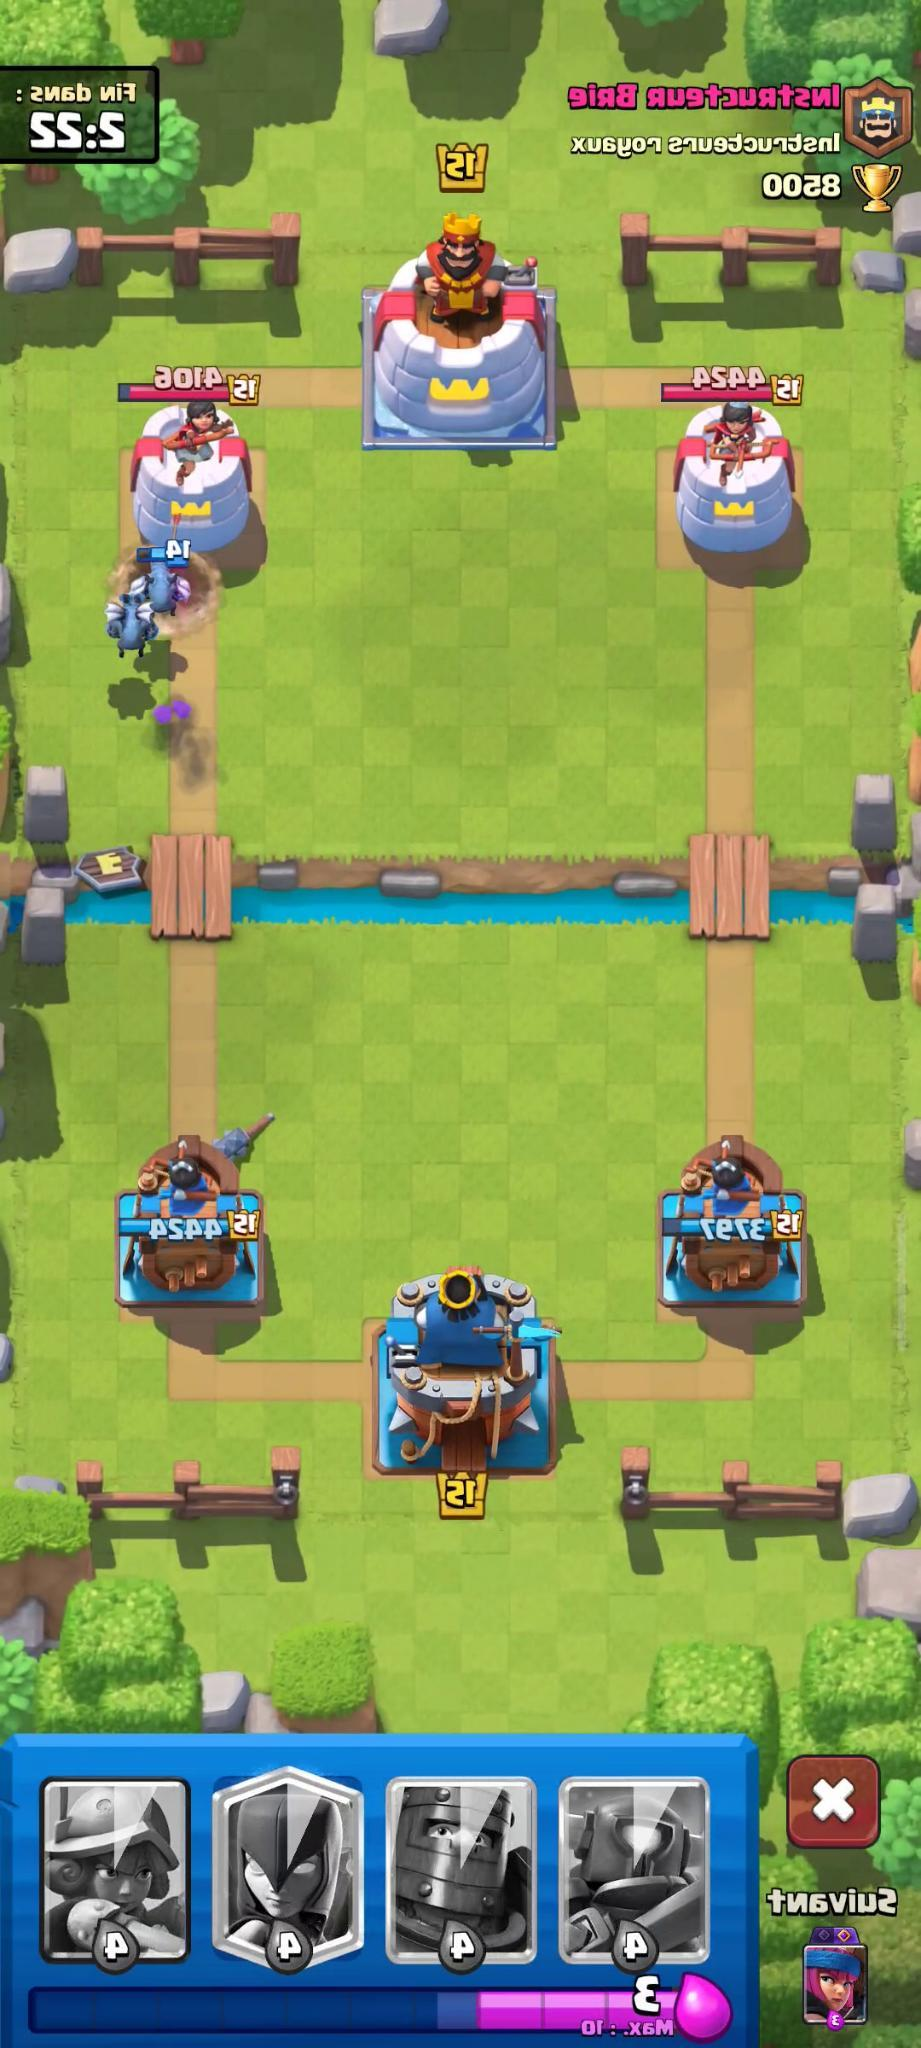player_minions: (99, 589, 170, 668), (128, 534, 198, 613)
